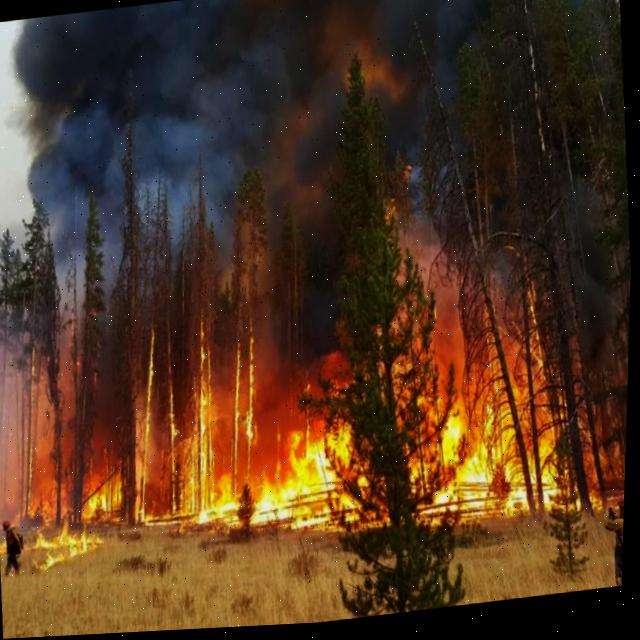fire: (37, 307, 629, 540)
smoke: (16, 0, 582, 343), (0, 314, 125, 521), (202, 214, 317, 418)
